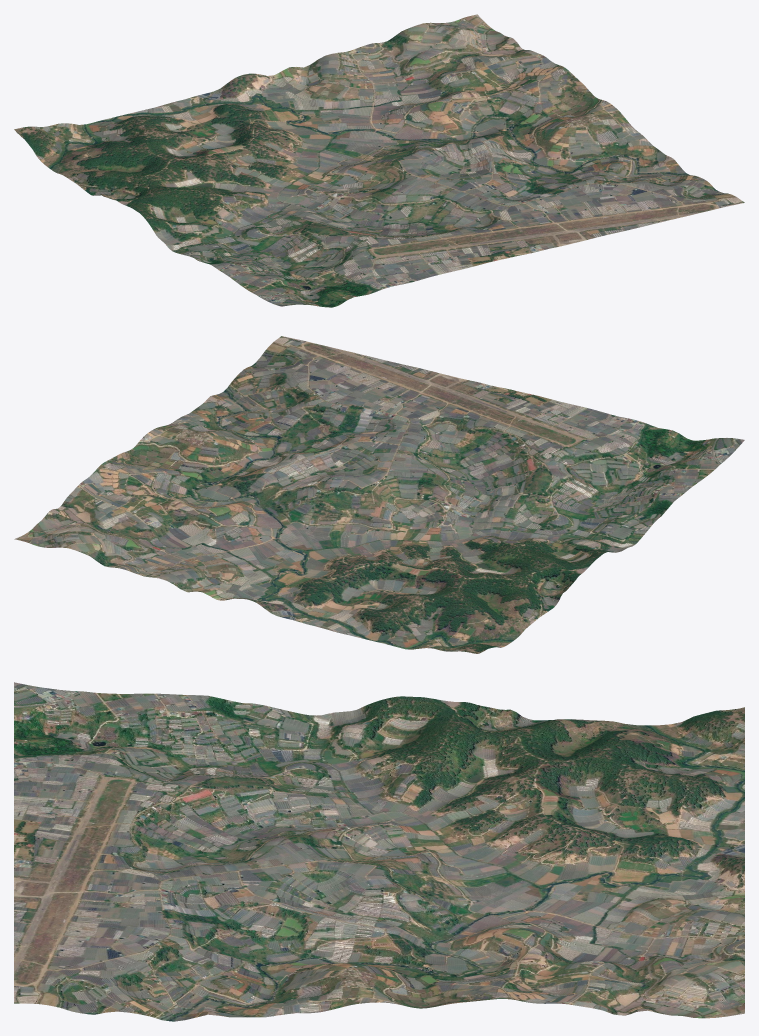
The model's file is terrain_real_T_W02_N01.glb.
3 renders of one model, top to bottom at view 1: azimuth 30°, elevation 25°; view 2: azimuth 150°, elevation 25°; view 3: azimuth 270°, elevation 25°, orthographic. The views are drawn at different scales.
Visible parts, largest first — view 1: TerrainReal_T_W02_N01; view 2: TerrainReal_T_W02_N01; view 3: TerrainReal_T_W02_N01.
Part boxes in pixels (x1,y1,x2,y2): TerrainReal_T_W02_N01: (14, 14, 744, 307); TerrainReal_T_W02_N01: (14, 336, 744, 653); TerrainReal_T_W02_N01: (14, 682, 744, 1021).
Bounding box in the file's own units: 2000 × 130 × 2000.
1 material, 1 textured.
